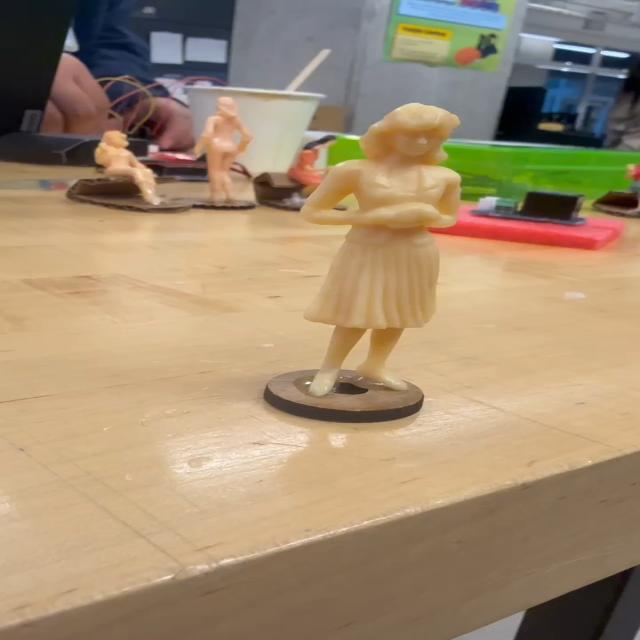Unauthorized: (327, 92, 444, 395)
